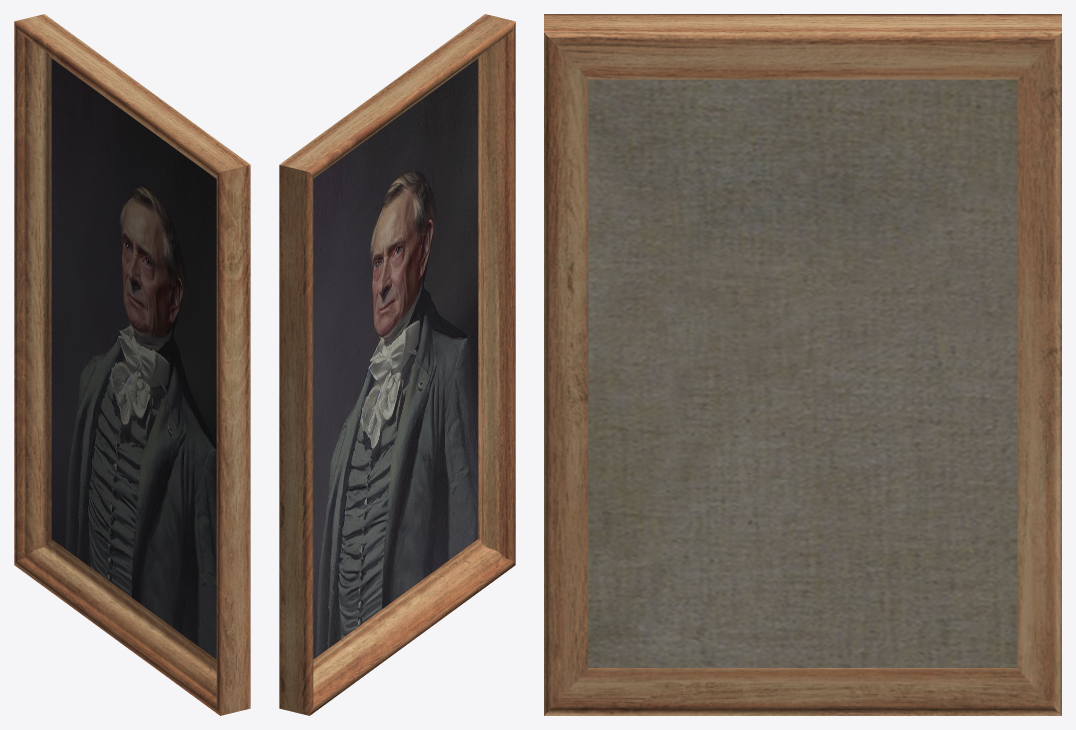
The model's file is PaintingPorttraitDuke_1.fbx.
3 renders of one model, left to right at view 1: azimuth 30°, elevation 25°; view 2: azimuth 150°, elevation 25°; view 3: azimuth 270°, elevation 25°, orthographic. The views are drawn at different scales.
Visible parts, largest first — view 1: PaintingTall1, PaintingFrame1; view 2: PaintingTall1, PaintingFrame1; view 3: PaintingBackside1, PaintingFrame1.
Boxes of the visible parts, left/top/right/bottom form: PaintingTall1: left=51, top=58, right=216, bottom=659; PaintingFrame1: left=14, top=14, right=250, bottom=715; PaintingTall1: left=313, top=58, right=478, bottom=659; PaintingFrame1: left=279, top=14, right=515, bottom=715; PaintingBackside1: left=588, top=79, right=1017, bottom=667; PaintingFrame1: left=544, top=14, right=1061, bottom=715.
Bounding box in the file's own units: 10.35 × 177 × 122.
Materials: 3 (3 with a texture image).
